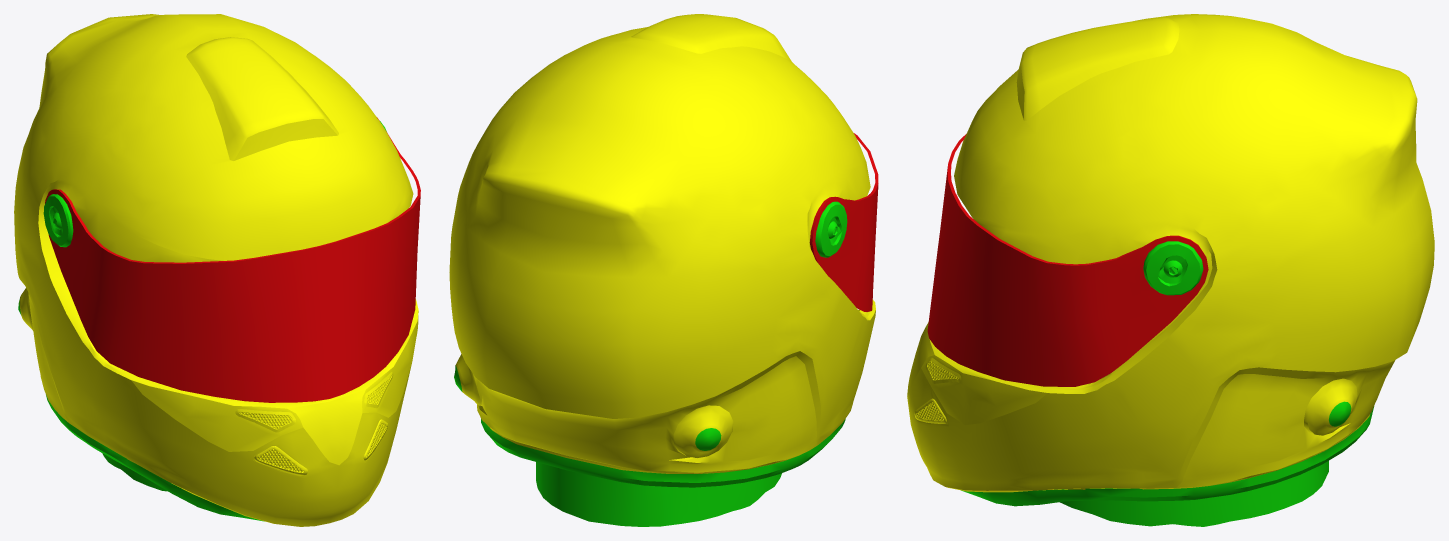
Rendered from F1PS_Helmet_V08_Centered.glb.
3 views of the same model, side by side, from view 1: azimuth 30°, elevation 25°; view 2: azimuth 150°, elevation 25°; view 3: azimuth 270°, elevation 25° (orthographic). The views are drawn at different scales.
Parts seen in each view (by area): view 1: Helmet_main, Helmet_main_visor; view 2: Helmet_main, Helmet_main_visor; view 3: Helmet_main, Helmet_main_visor.
Part boxes in pixels (bbox=[...]): Helmet_main: bbox=[14, 14, 418, 526]; Helmet_main_visor: bbox=[45, 117, 420, 402]; Helmet_main: bbox=[449, 14, 875, 526]; Helmet_main_visor: bbox=[809, 133, 878, 311]; Helmet_main: bbox=[907, 14, 1434, 526]; Helmet_main_visor: bbox=[927, 134, 1208, 386].
Bounding box in the file's own units: 1.91 × 2.23 × 2.38.
3 materials, 1 textured.
